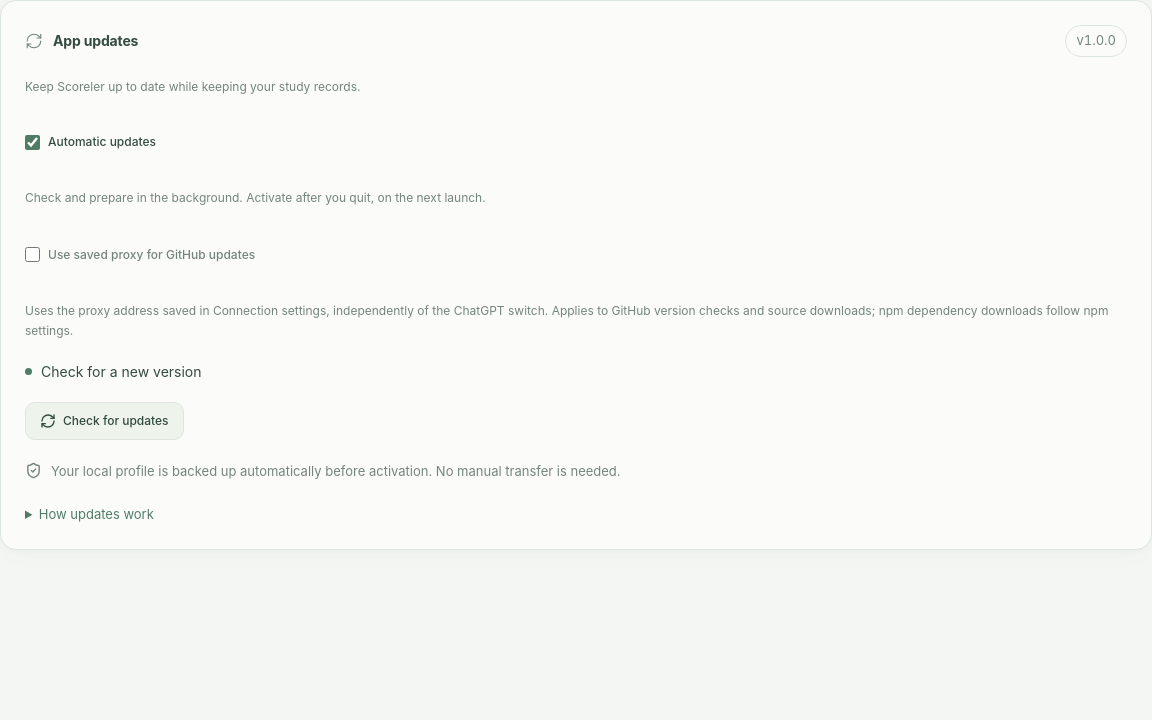
does not announce a new version when the checked commit is already installed
Click the button "Check for updates": (104, 422) [25,402,184,440]
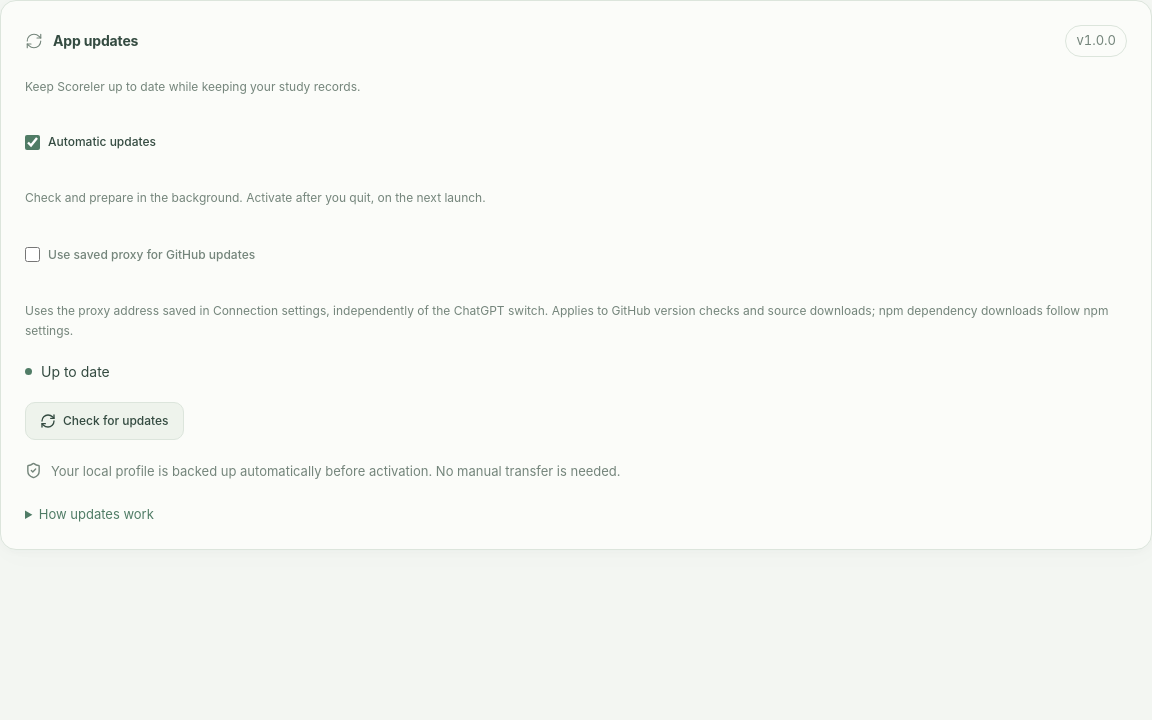
Expected: the text "Up to date" is shown, [41,362,110,382]
